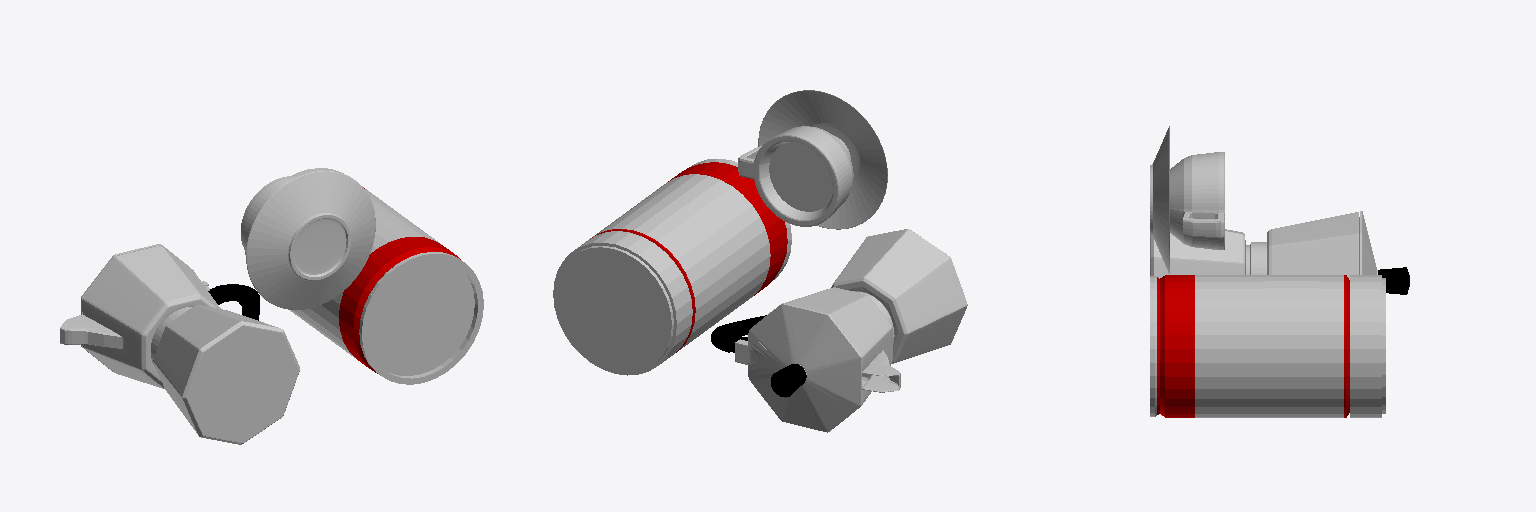
Rendered from Multi_Moka_Express_Bialetti_ILLY_COFFEE.obj.
The picture shows the model from 3 angles: view 1: azimuth 30°, elevation 25°; view 2: azimuth 150°, elevation 25°; view 3: azimuth 270°, elevation 25°; orthographic projection.
Size of the model in its own units: 711 by 514 by 488.